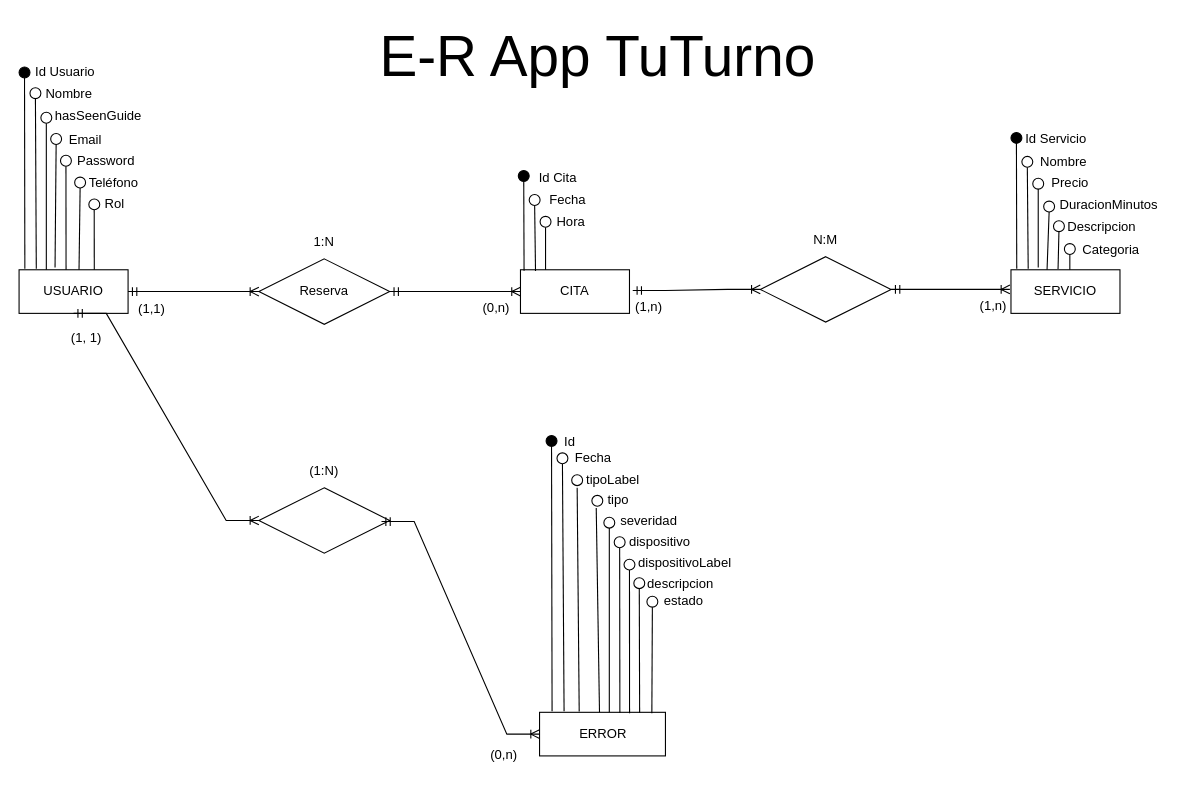
The diagram is 1179 pixels wide and 789 high, and some of its shapes have lost their labels. The centre of each missing label's shape, as x and y in pixels:
"Reporta" belongs at (324,520).
"Se ofrece" belongs at (825,289).
